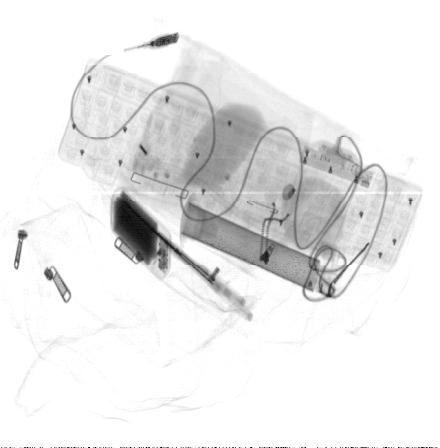Powerbank: (110, 187, 172, 283)
Scissors: (119, 194, 257, 326)
